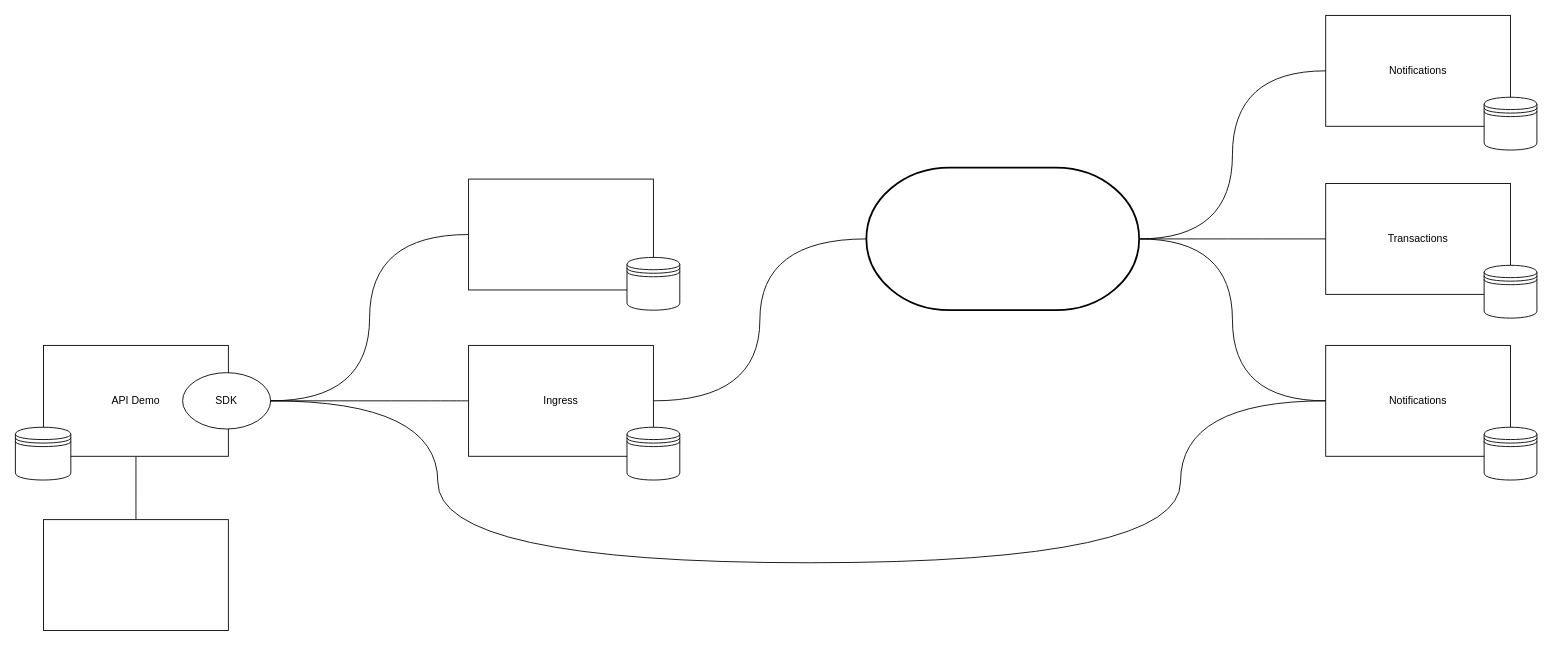
Some shapes in this 1552 by 646 pixel diagram are drawn without their labels. The shapes that lost their labels are listed below. From the top down, each one's box as (x1, y1, x2, y2) in pixels, then its label:
(468, 178, 653, 290): Identity
(865, 166, 1140, 311): Events Queue
(43, 519, 228, 631): Web Demo
